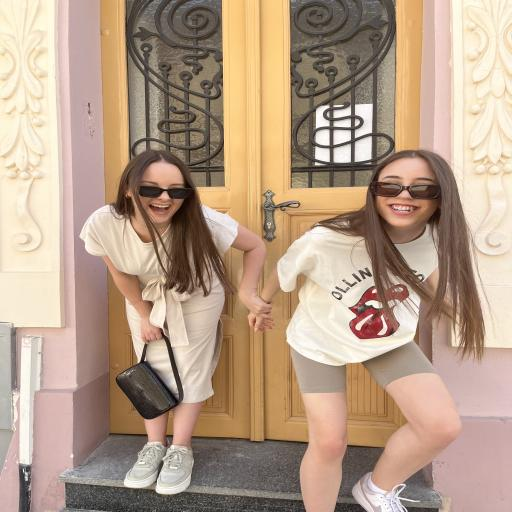marija: (131, 163, 191, 224)
masa: (371, 154, 444, 228)
